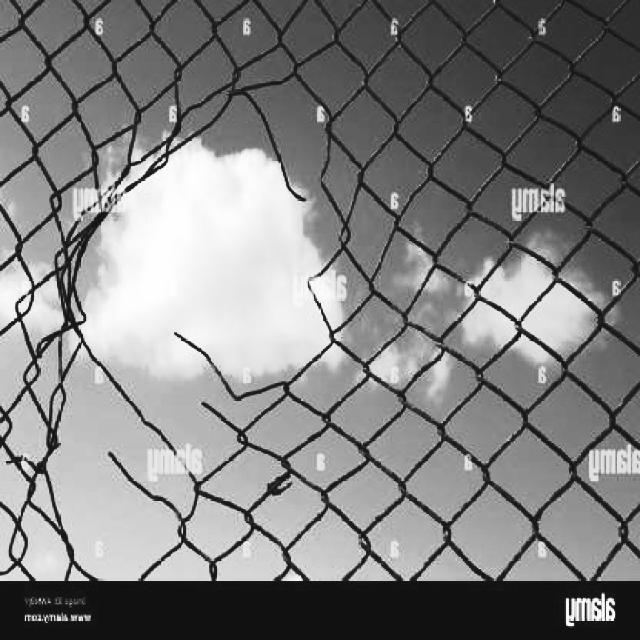anomaly-fence: (29, 66, 354, 578)
